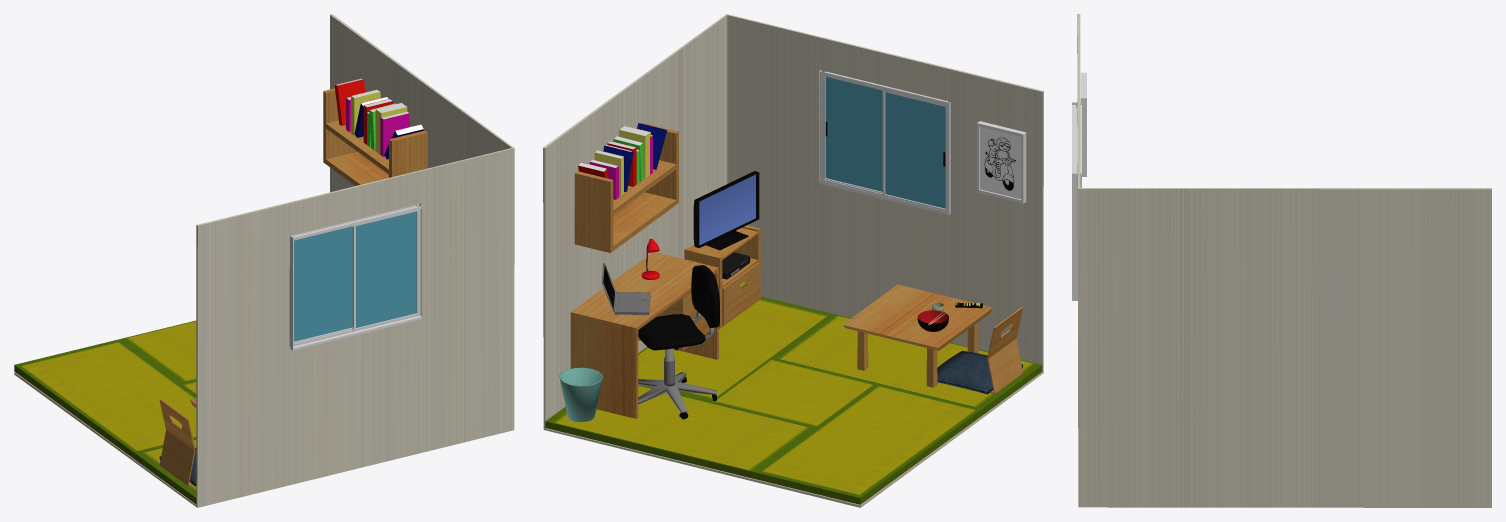
3 views of the same model, side by side, from view 1: azimuth 30°, elevation 25°; view 2: azimuth 150°, elevation 25°; view 3: azimuth 270°, elevation 25° (orthographic). The views are drawn at different scales.
Parts seen in each view (by area): view 1: Room, Plane.003, Window.L, Window.R, Shelf, Plane.004, Chair, Plane.005, WindowFrame, Book2, Book0.001, WindowFrame.001; view 2: Room, Plane.003, Plane.004, Desk, Plane.005, Plane.001, Shelf, Window.R, Plane.002, Table, Window.L, DeskChair (+12 smaller); view 3: Room, WindowFrame.002, Frame.001, WindowFrame.001.
Part boxes in pixels (x1,y1,x2,y2): Room: (14, 14, 514, 507); Plane.003: (14, 339, 196, 459); Window.L: (352, 209, 418, 331); Window.R: (294, 226, 352, 343); Shelf: (323, 88, 427, 204); Plane.004: (120, 320, 196, 383); Chair: (159, 398, 195, 485); Plane.005: (135, 439, 196, 504); WindowFrame: (293, 316, 421, 350); Book2: (380, 111, 409, 156); Book0.001: (334, 78, 365, 125); WindowFrame.001: (292, 206, 421, 240); Room: (543, 14, 1043, 507); Plane.003: (755, 384, 981, 504); Plane.004: (545, 385, 815, 479); Desk: (570, 252, 718, 418); Plane.005: (772, 314, 1042, 415); Plane.001: (638, 296, 831, 402); Shelf: (574, 123, 678, 252); Window.R: (882, 90, 945, 210); Plane.002: (711, 358, 876, 427); Table: (843, 284, 992, 387); Window.L: (824, 76, 882, 193); DeskChair: (638, 265, 719, 419); Room: (1077, 14, 1491, 507); WindowFrame.002: (1072, 172, 1081, 300); Frame.001: (1080, 72, 1086, 176); WindowFrame.001: (1072, 105, 1081, 173).
Bounding box in the file's own units: 266 × 226 × 269.
47 materials, 7 textured.
